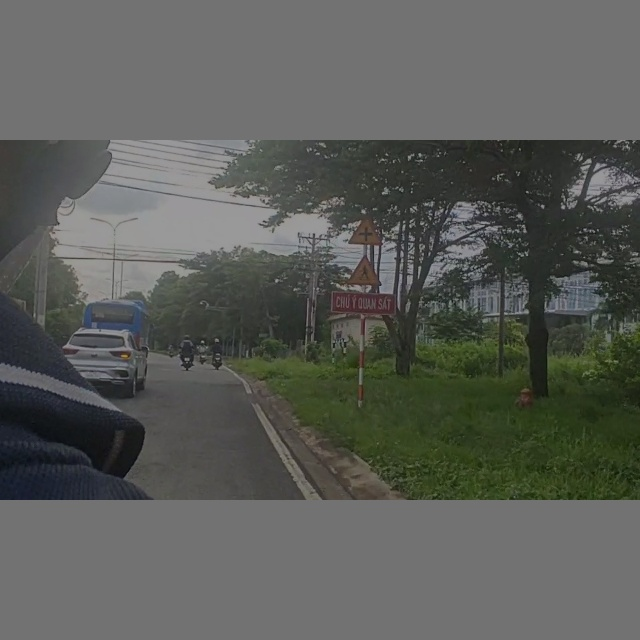W.205a: (347, 217, 387, 248)
W.224: (344, 254, 385, 288)
